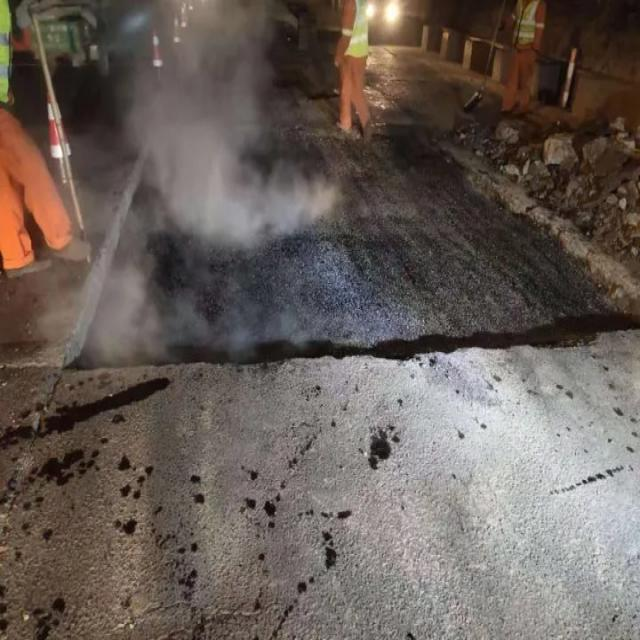Pothole: (68, 121, 633, 353)
